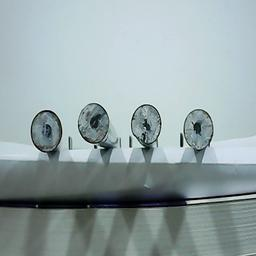pen: (30, 109, 63, 154), (76, 101, 109, 146), (128, 101, 161, 146), (181, 105, 214, 150)
